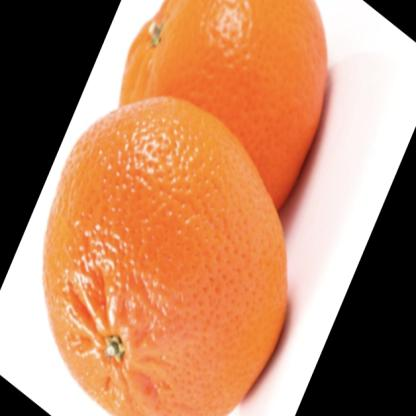fresh: (46, 1, 329, 416)
